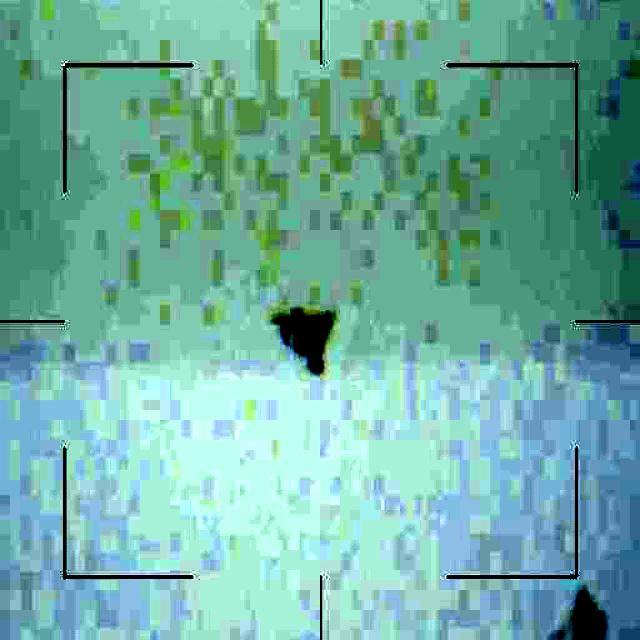bird: (272, 300, 331, 375)
